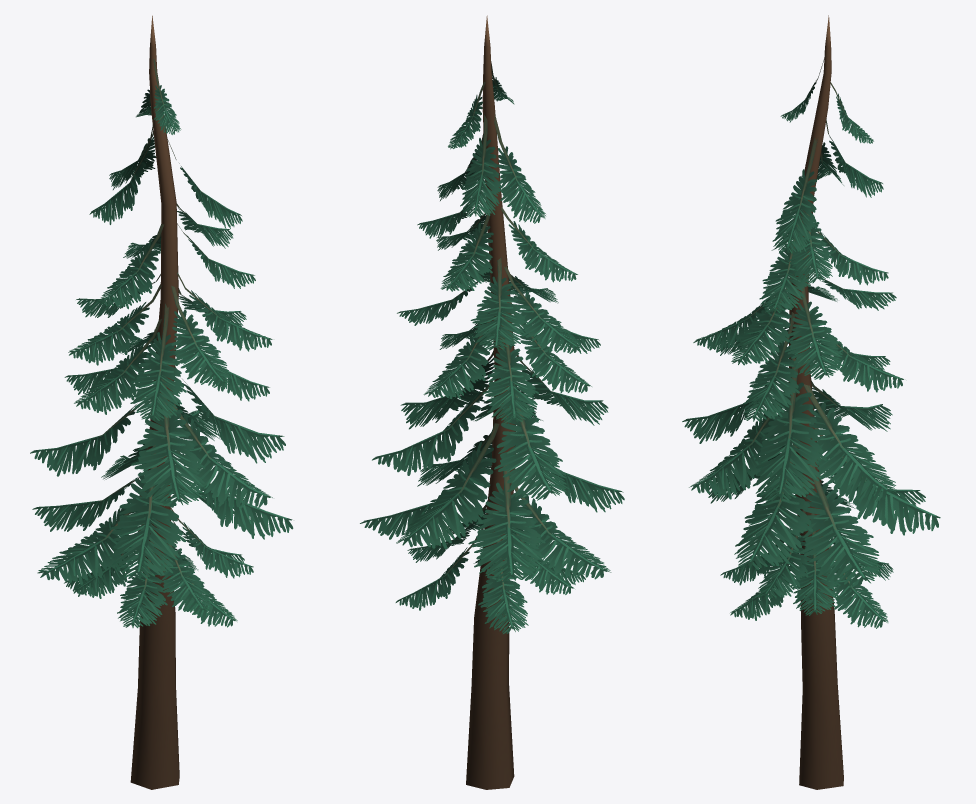
The model's file is Pine_Tree_3E.fbx.
3 views of the same model, side by side, from view 1: azimuth 30°, elevation 25°; view 2: azimuth 150°, elevation 25°; view 3: azimuth 270°, elevation 25° (orthographic).
Visible parts, largest first — view 1: Pine_Tree_3E; view 2: Pine_Tree_3E; view 3: Pine_Tree_3E.
Boxes of the visible parts, left/top/right/bottom form: Pine_Tree_3E: left=30, top=15, right=293, bottom=789; Pine_Tree_3E: left=360, top=15, right=624, bottom=789; Pine_Tree_3E: left=682, top=15, right=940, bottom=789.
Size of the model in its own units: 660 by 1880 by 653.
